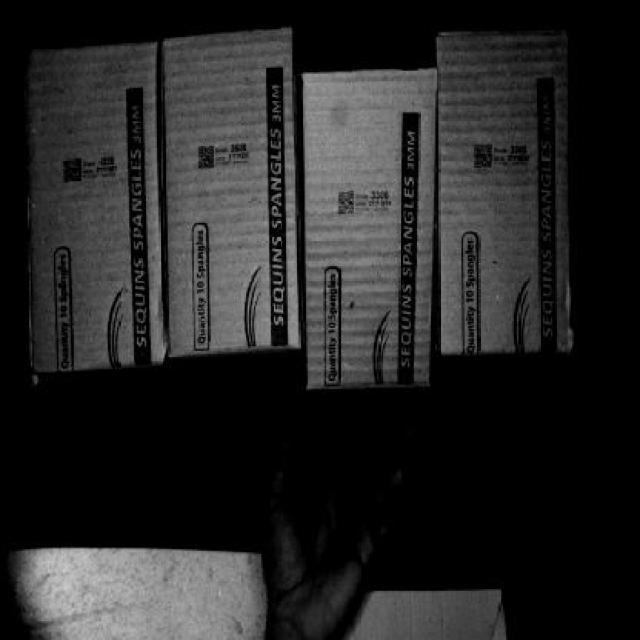box: (160, 32, 305, 358), (440, 23, 574, 351), (30, 40, 162, 360), (305, 77, 438, 385)
